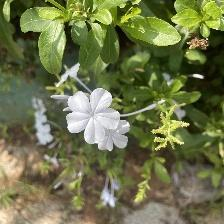chitrak: (61, 86, 123, 146)
